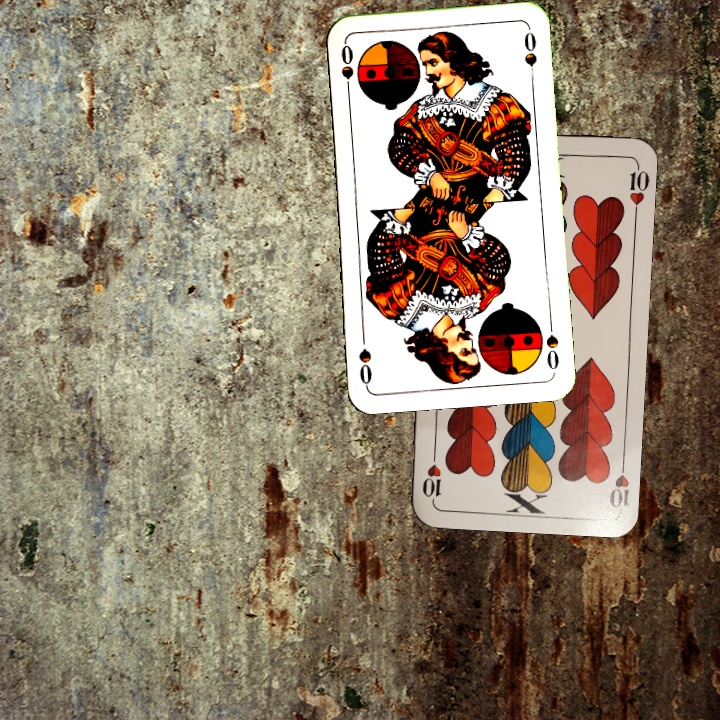H10: (604, 452, 632, 512)
SO: (337, 39, 357, 99), (542, 315, 562, 373)
